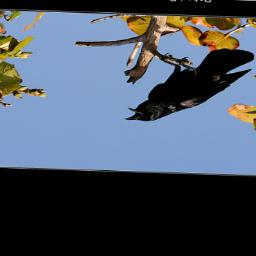Crow: (124, 46, 255, 126)
